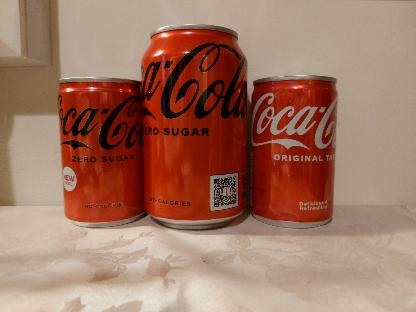Can: (140, 23, 249, 231), (250, 74, 338, 226), (57, 76, 143, 228)
